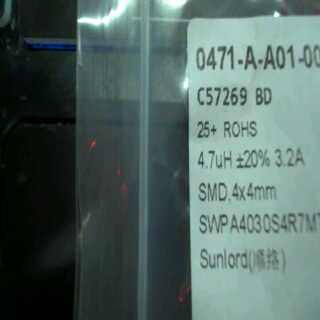4.7uH: (197, 146, 236, 174)
